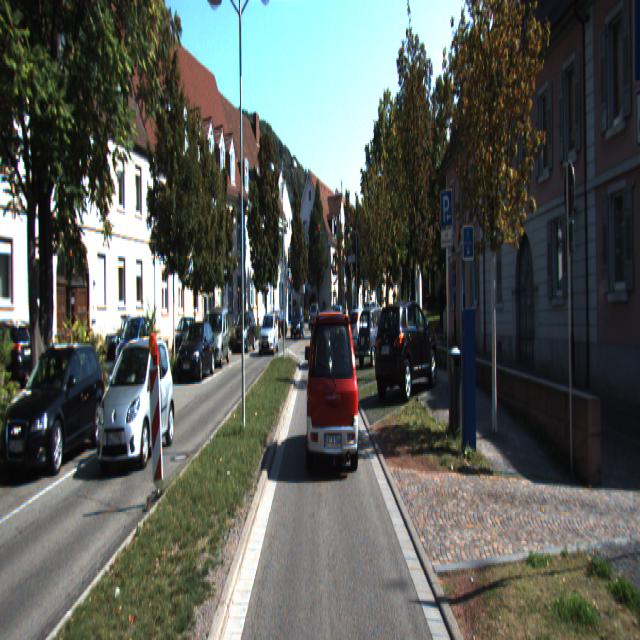Car: (0, 343, 106, 483), (96, 333, 177, 476), (308, 310, 361, 478), (373, 297, 440, 401), (113, 316, 155, 380), (176, 319, 216, 384), (356, 306, 395, 370), (104, 314, 150, 362), (203, 308, 231, 370), (345, 308, 380, 356), (233, 311, 256, 353), (259, 311, 279, 355), (263, 312, 284, 343), (291, 306, 305, 340), (309, 302, 320, 329)
